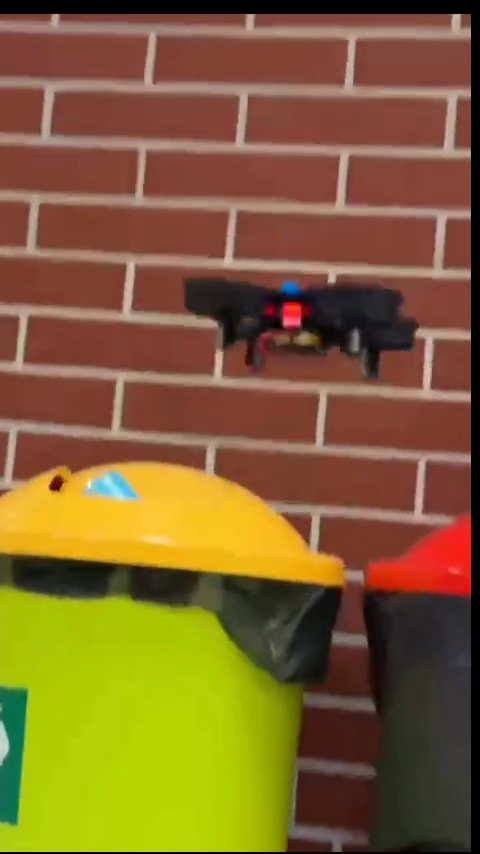drone: (178, 265, 413, 385)
